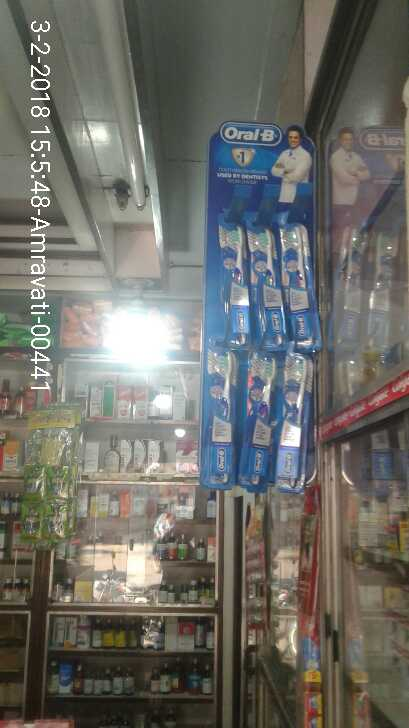oralb: (247, 349, 280, 483), (284, 348, 314, 489), (245, 219, 281, 333), (206, 354, 235, 478), (213, 221, 243, 340), (272, 221, 299, 345)
